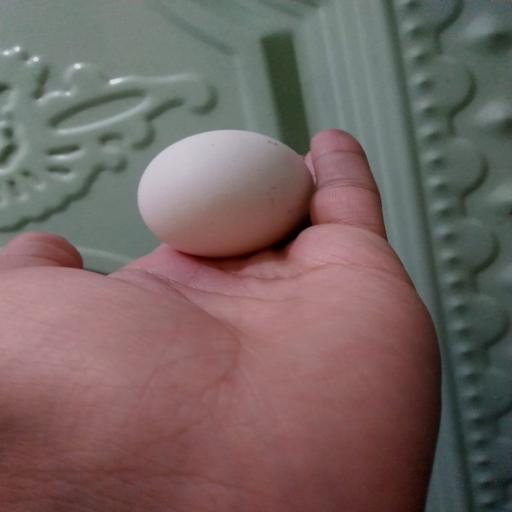telur: (132, 124, 326, 266)
